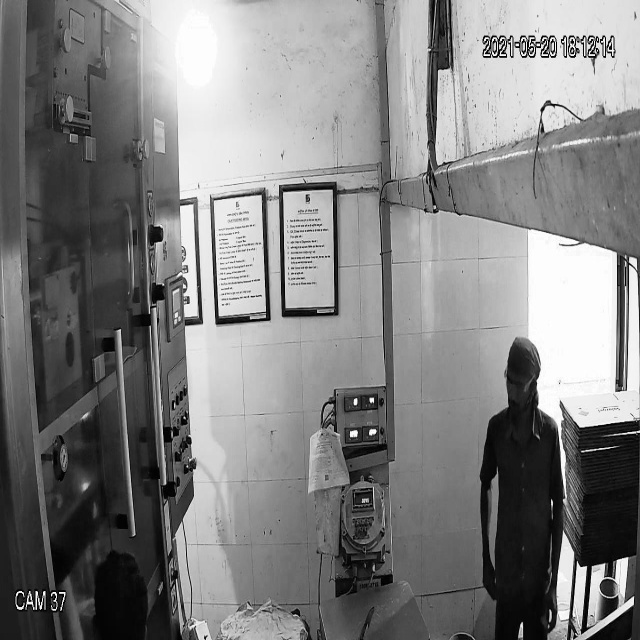Gafas: (502, 363, 536, 398)
